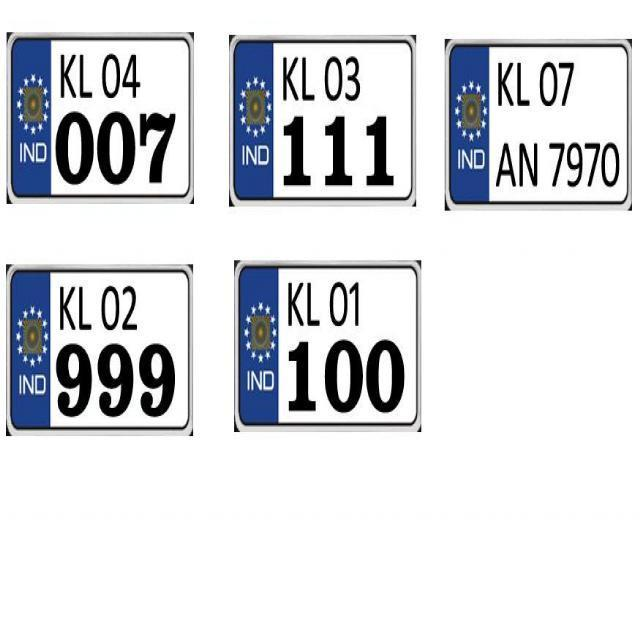License_Plate: (440, 34, 640, 214), (231, 259, 429, 429), (0, 31, 194, 199), (8, 264, 196, 434), (228, 34, 411, 200)
